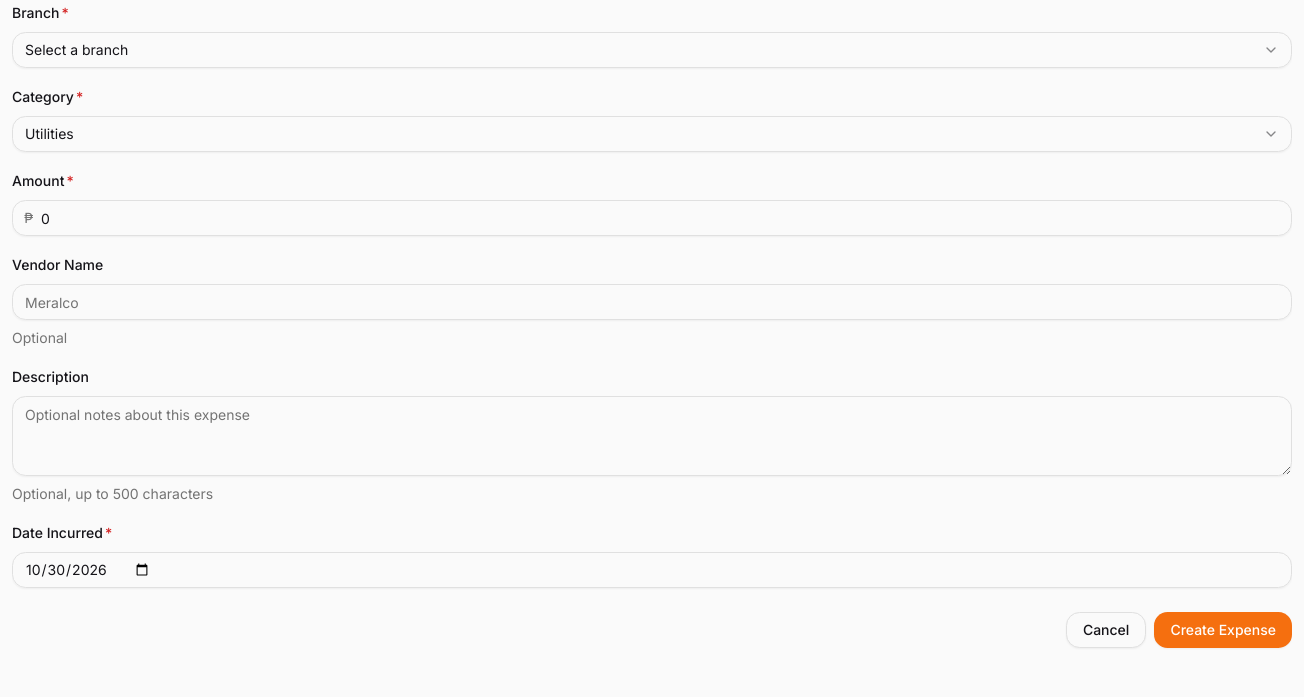
Scenario: ExpenseForm › shows validation errors for required branch, category, amount, and date when submitted empty
Clear the date field labelled "Date Incurred*": {"x": 652, "y": 570} left=12, top=552, right=1292, bottom=588
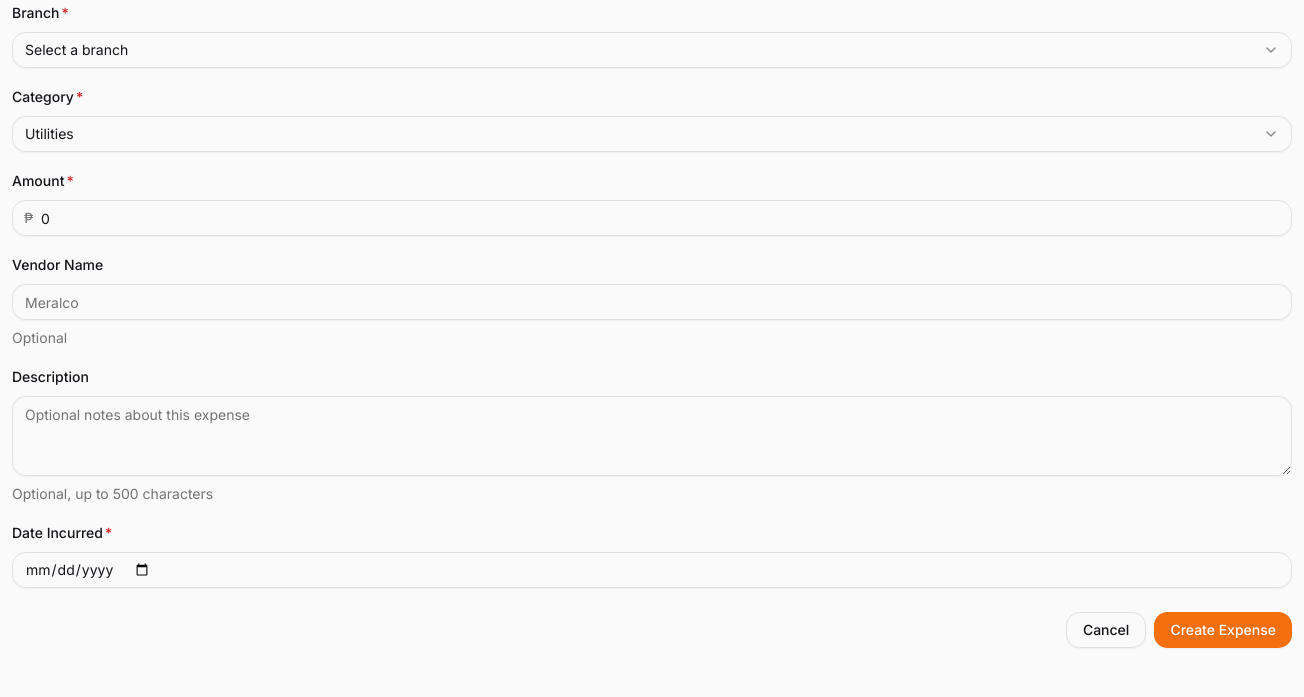
Click the button "Create Expense": {"x": 1223, "y": 630} left=1154, top=612, right=1292, bottom=648
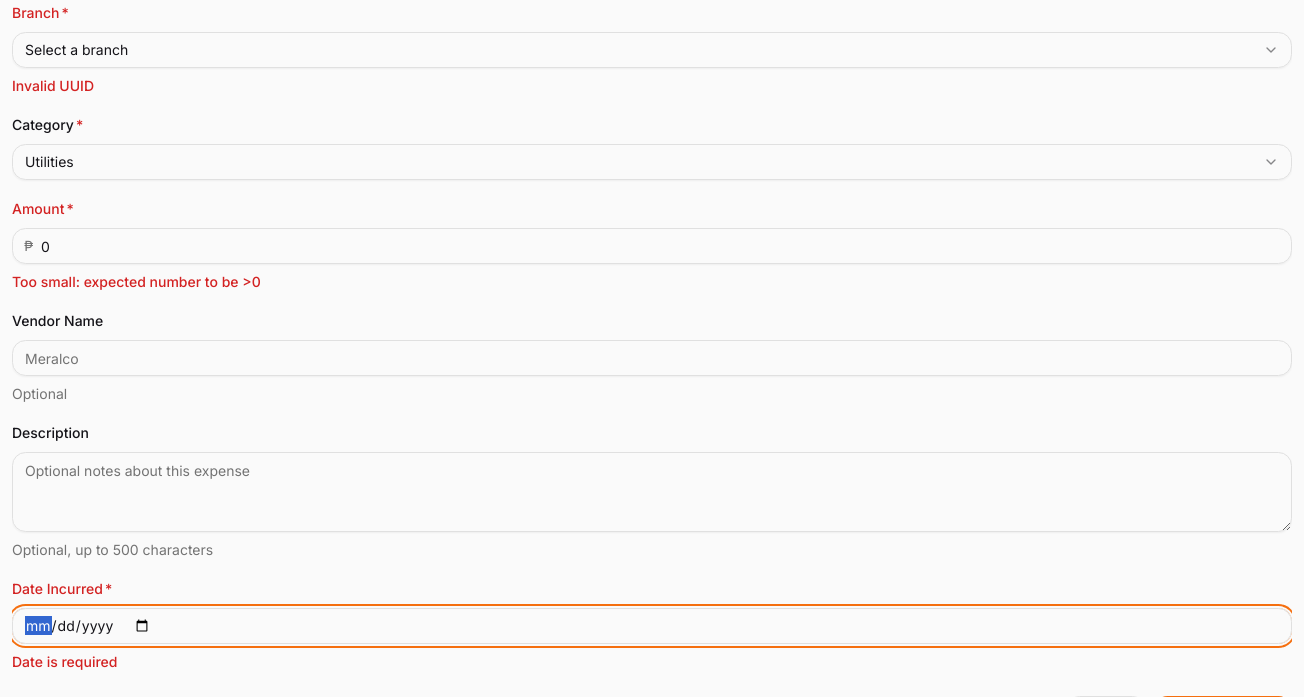
Expected: the text "Date is required" is shown, left=12, top=653, right=117, bottom=670
